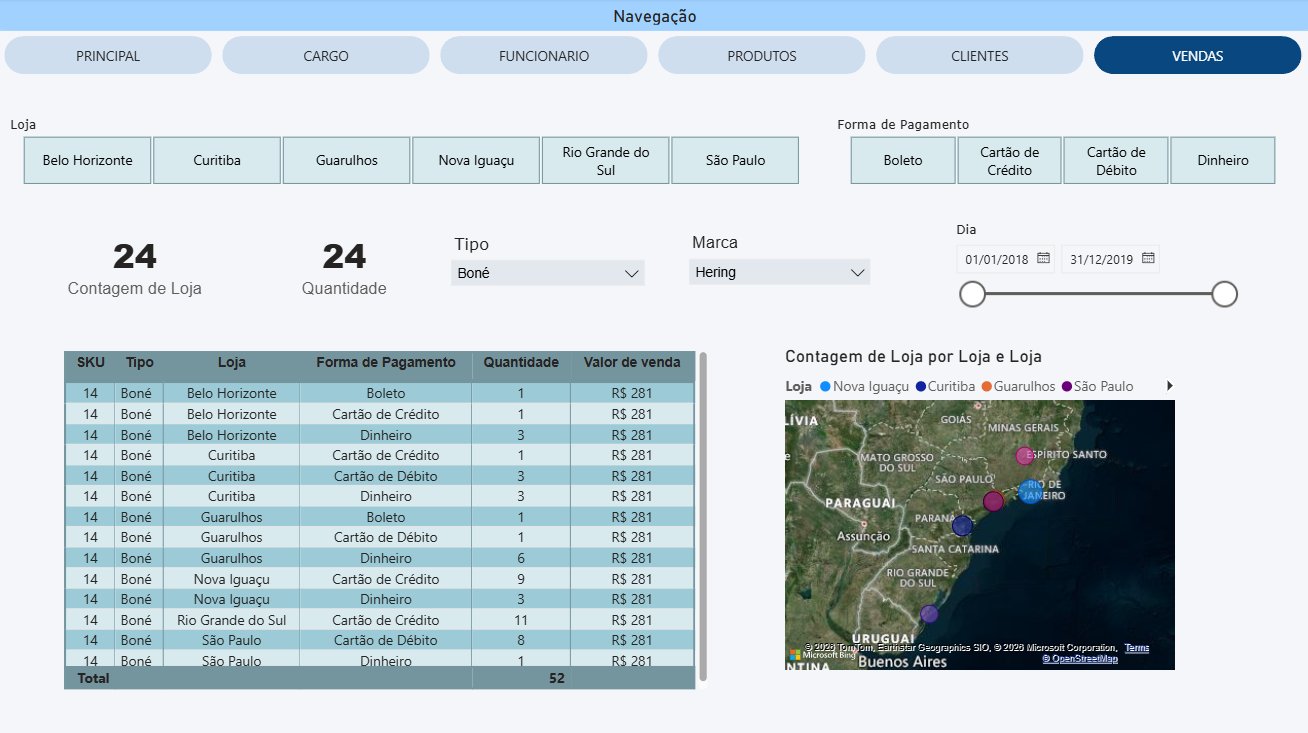

This screenshot's page, from the dashboard's own definition file:
{"tool":"powerbi","page":{"name":"VENDAS","canvas":[1280,720],"ordinal":5},"visuals":[{"type":"pageNavigator","title":"Navegação","box":[0,0,1280,80.7],"z":0},{"type":"slicer","fields":{"Values":["Tabela Vendas.Loja"]},"box":[0,110.9,804.4,76.8],"z":1000},{"type":"slicer","fields":{"Values":["Tabela Vendas.Forma de Pagamento"]},"box":[804.4,110.9,463,76.8],"z":2000},{"type":"slicer","fields":{"Values":["Tabela Vendas.Dia"]},"box":[920.1,213,294.7,92.4],"z":3000},{"type":"cardVisual","fields":{"Data":["CountNonNull(Tabela Vendas.Loja)"]},"box":[36,200.4,196.5,118.7],"z":4000},{"type":"cardVisual","fields":{"Data":["CountNonNull(Tabela Vendas.Quantidade)"]},"box":[254.8,208.1,166.3,103.1],"z":5000},{"type":"slicer","fields":{"Values":["Tabela Produtos.Tipo"]},"box":[431.9,223.7,208.1,71],"z":6000},{"type":"slicer","fields":{"Values":["Tabela Produtos.Marca"]},"box":[663.3,223.7,196.5,74.9],"z":7000},{"type":"tableEx","fields":{"Values":["Tabela Produtos.SKU","Tabela Produtos.Tipo","Tabela Vendas.Loja","Tabela Vendas.Forma de Pagamento","Sum(Tabela Vendas.Quantidade)","Tabela Produtos.Valor de venda"]},"box":[59.3,338.5,637.1,339.5],"z":8000},{"type":"map","fields":{"Category":["Tabela Vendas.Loja"],"Series":["Tabela Vendas.Loja"],"Size":["CountNonNull(Tabela Vendas.Loja)"]},"box":[761.6,338.5,389.1,320],"z":9000}]}

Visuals, with their boxes in screenshot pixels (x1, y1, x2, y2), scaled from the page's 1280x720 canvas onto the 1308x733 screenshot:
"Navegação" pageNavigator: <box>0,0,1307,82</box>
slicer - Tabela Vendas.Loja: <box>0,113,822,191</box>
slicer - Tabela Vendas.Forma de Pagamento: <box>822,113,1295,191</box>
slicer - Tabela Vendas.Dia: <box>940,217,1241,311</box>
cardVisual - CountNonNull(Tabela Vendas.Loja): <box>37,204,238,325</box>
cardVisual - CountNonNull(Tabela Vendas.Quantidade): <box>260,212,430,317</box>
slicer - Tabela Produtos.Tipo: <box>441,228,654,300</box>
slicer - Tabela Produtos.Marca: <box>678,228,879,304</box>
tableEx - Tabela Produtos.SKU x Tabela Produtos.Tipo: <box>61,345,712,690</box>
map - Tabela Vendas.Loja x Tabela Vendas.Loja: <box>778,345,1176,670</box>
